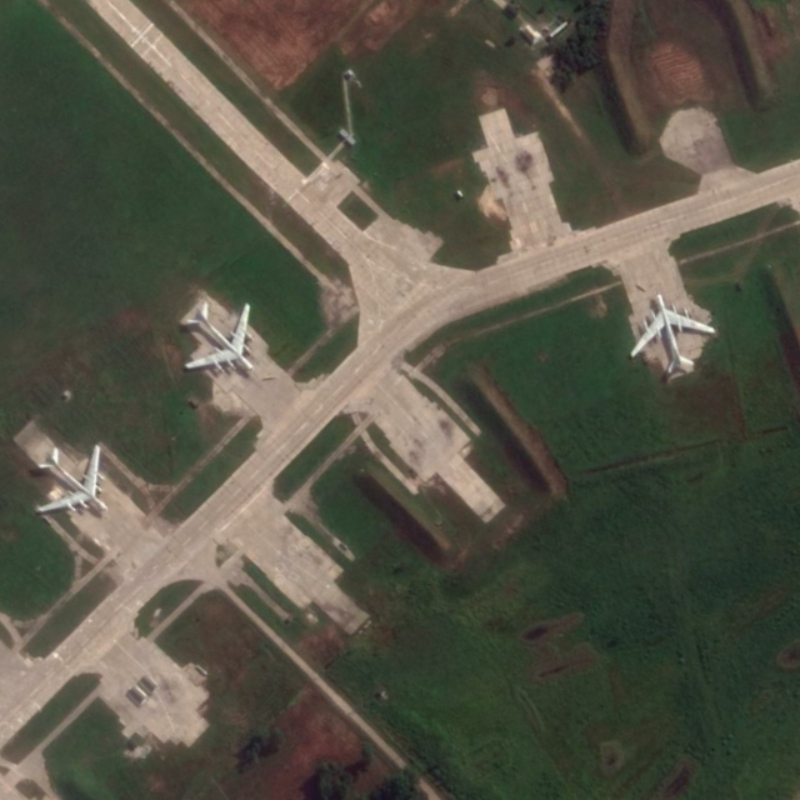A17: (628, 291, 717, 376), (34, 442, 112, 514), (182, 301, 256, 374)
